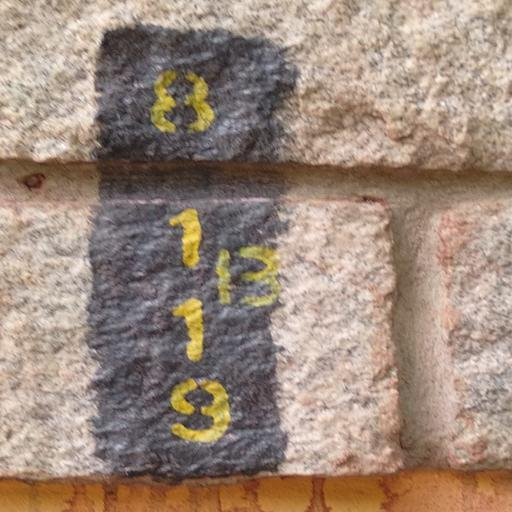stain: (65, 1, 296, 466), (27, 463, 512, 512)
